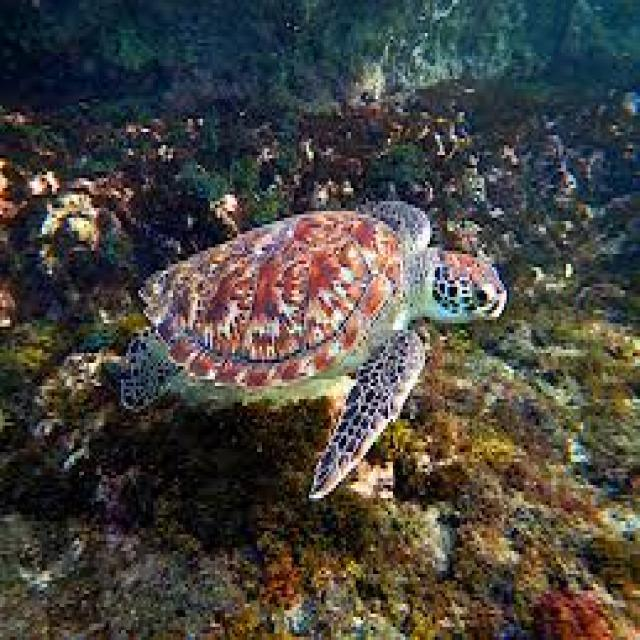Hawksbill-Sea-Turtle -Endangered-: (122, 198, 510, 497)
